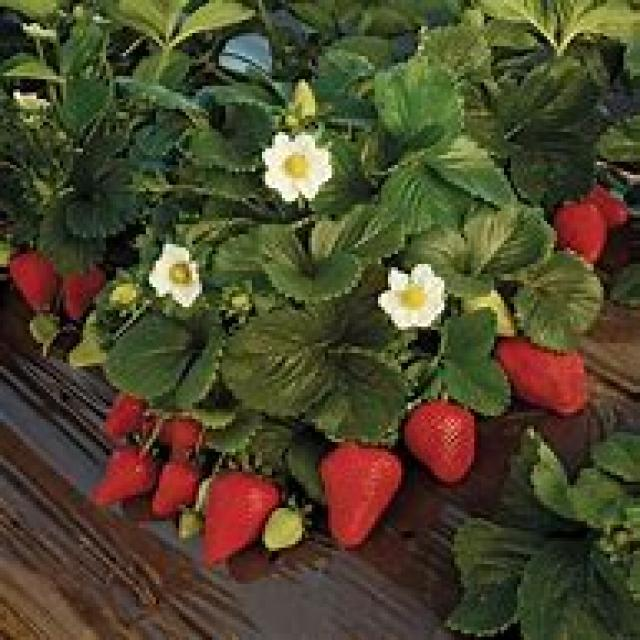strawberry: (320, 436, 406, 548), (404, 401, 479, 486), (202, 471, 264, 569), (516, 353, 596, 417), (88, 447, 154, 502), (12, 258, 58, 311)
